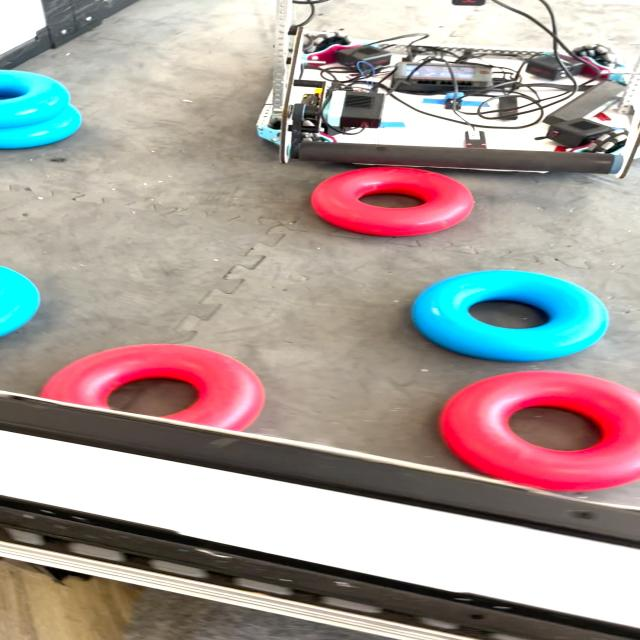Blue-Ring: (411, 270, 609, 361), (0, 70, 71, 127), (0, 106, 82, 148), (0, 266, 40, 336)
Red-Ring: (440, 371, 640, 491), (40, 344, 264, 431), (311, 166, 473, 236)
